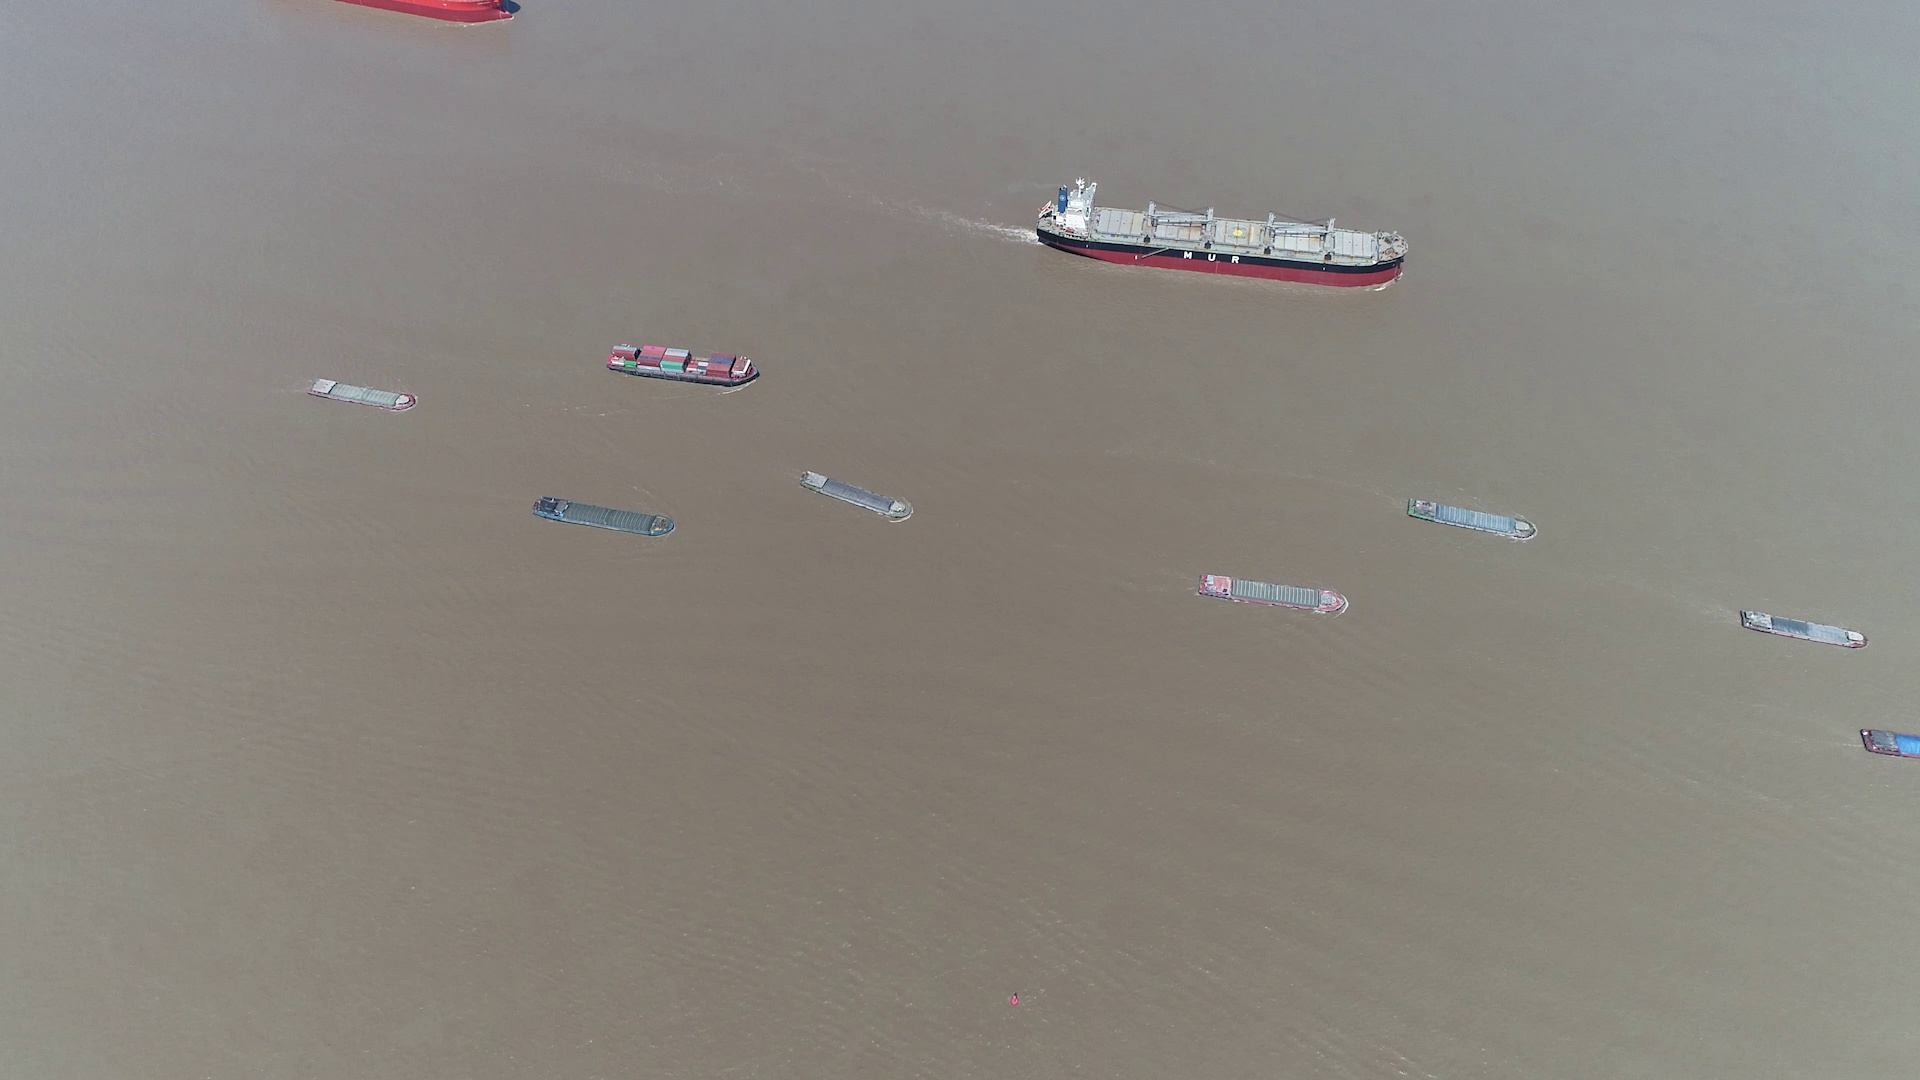ship: (1040, 185, 1407, 286), (607, 342, 760, 386), (1199, 572, 1349, 615), (800, 469, 913, 522), (533, 498, 676, 539), (1404, 497, 1536, 541), (1739, 608, 1869, 647), (309, 377, 415, 411), (1859, 728, 1919, 760)
